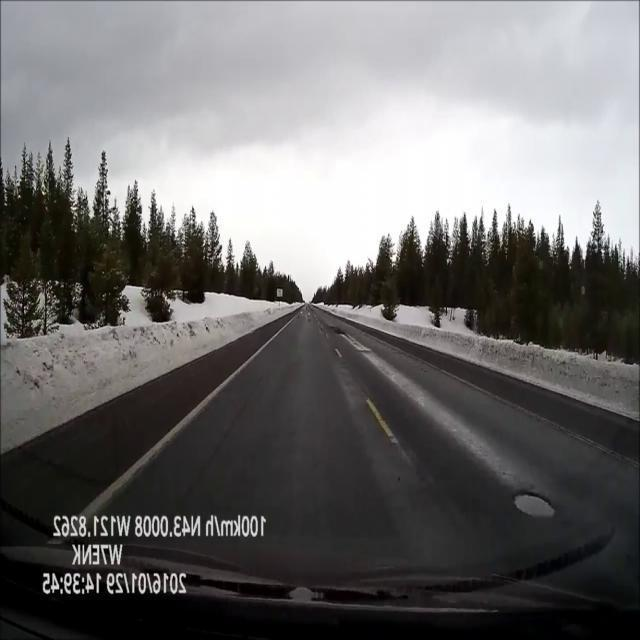pothole: (508, 487, 559, 523), (330, 324, 345, 336)
